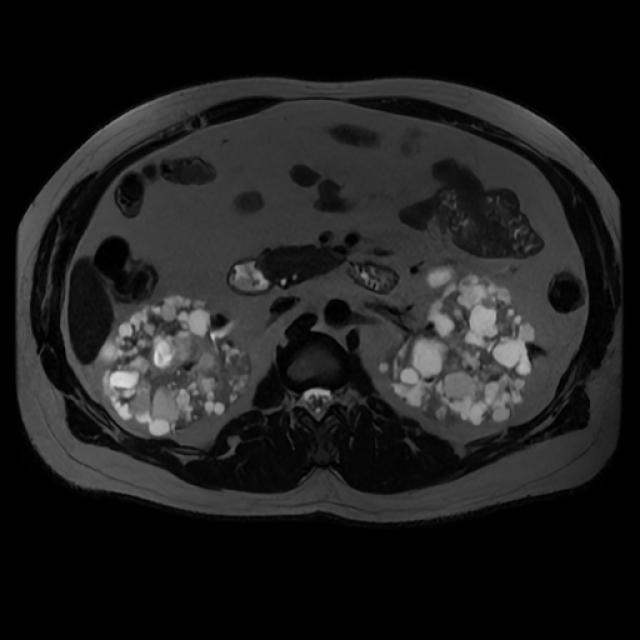sag: (96, 295, 253, 437)
sol: (380, 263, 543, 426)
